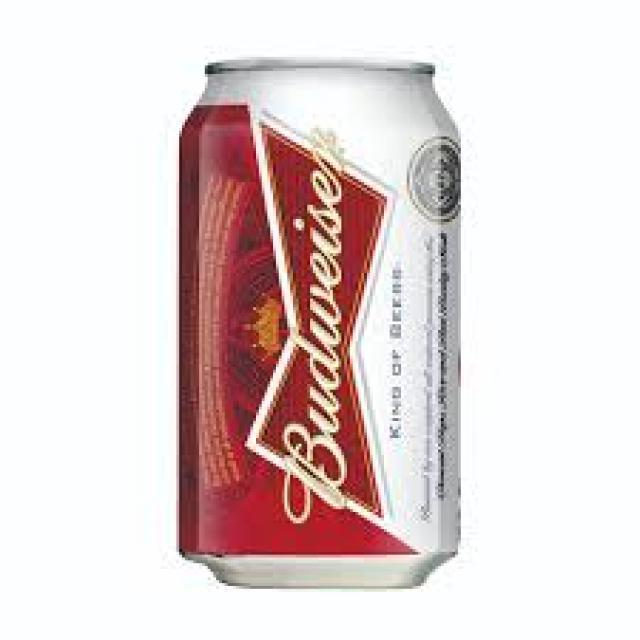recyclable: (177, 56, 462, 588)
